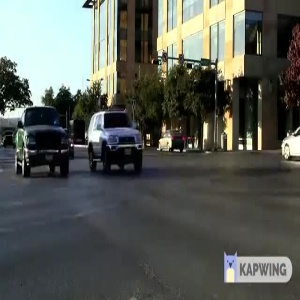car: (154, 124, 189, 154)
suv: (83, 106, 144, 172)
truck: (11, 102, 74, 176)
